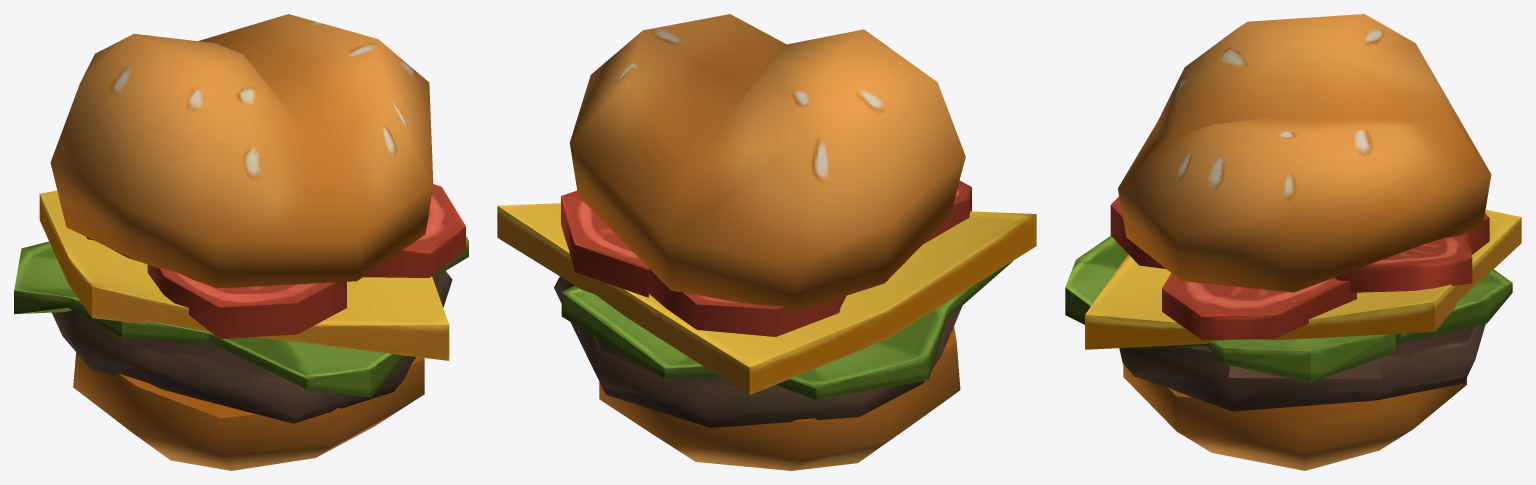
File: burger-low-poly.fbx
3 renders of one model, left to right at view 1: azimuth 30°, elevation 25°; view 2: azimuth 150°, elevation 25°; view 3: azimuth 270°, elevation 25°, orthographic. The views are drawn at different scales.
Parts seen in each view (by area): view 1: taco; view 2: taco; view 3: taco.
Part boxes in pixels (x1,y1,x2,y2): taco: (14, 14, 468, 470); taco: (497, 14, 1036, 470); taco: (1065, 14, 1521, 470).
Size of the model in its own units: 15.04 by 13.4 by 14.82.
Materials: 1 (1 with a texture image).
